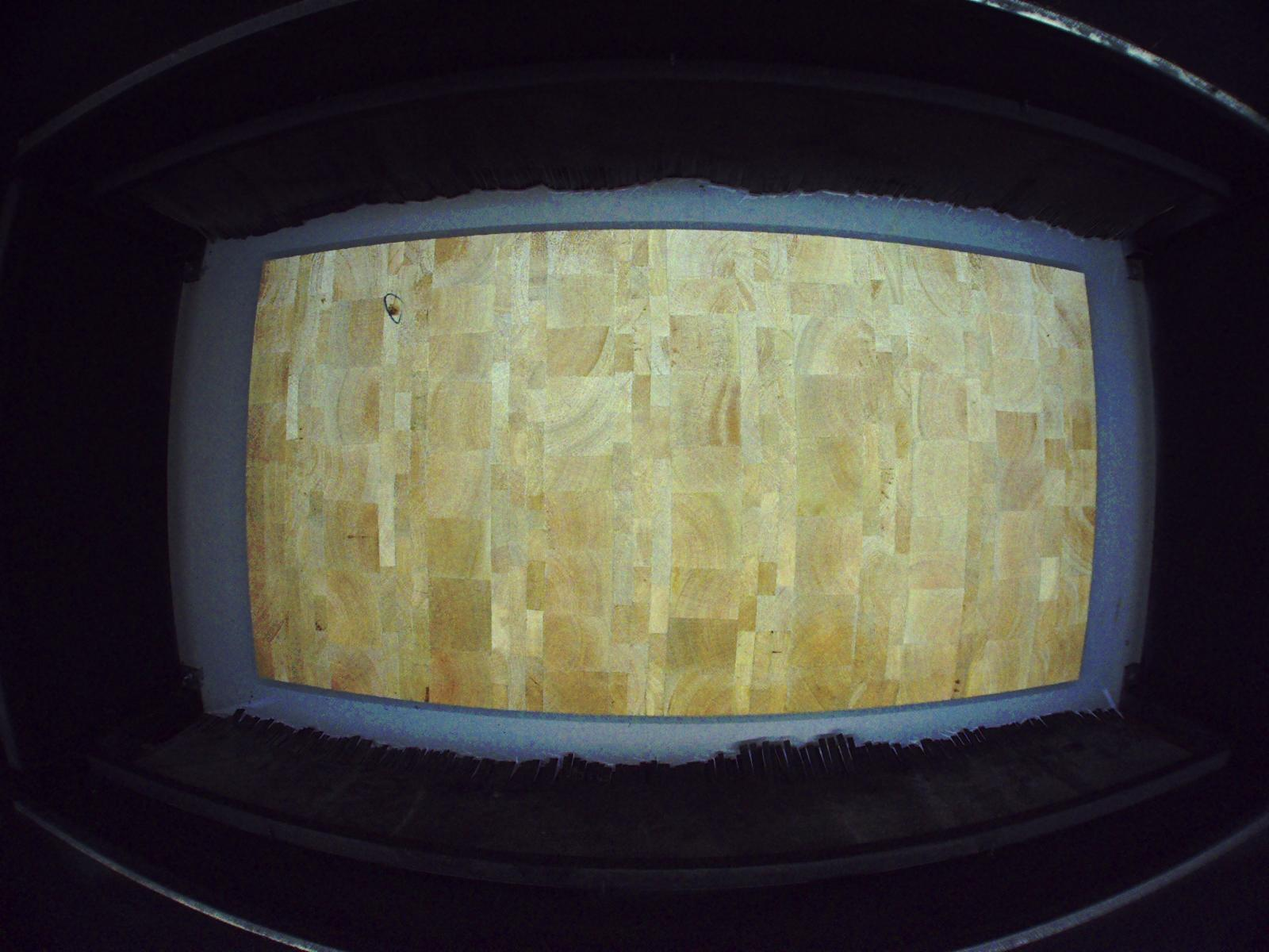nudillo: (387, 303, 400, 318)
